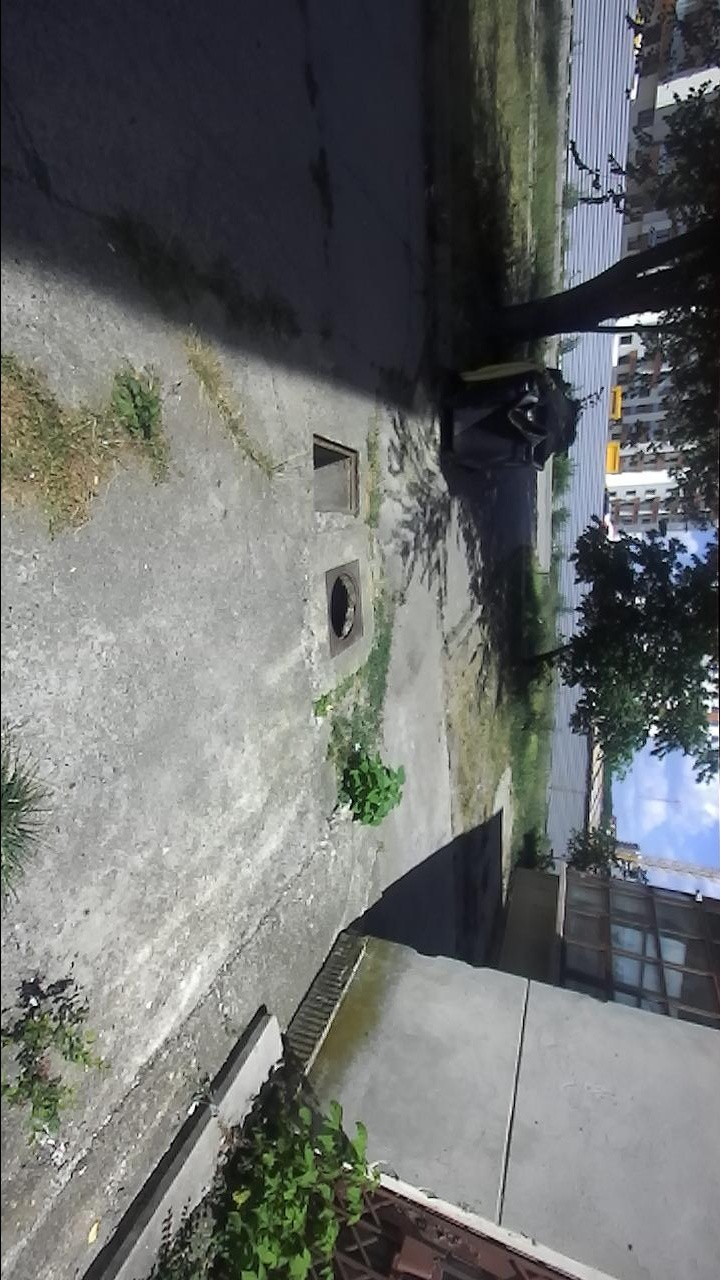drain: (312, 431, 364, 520), (326, 567, 361, 644)
